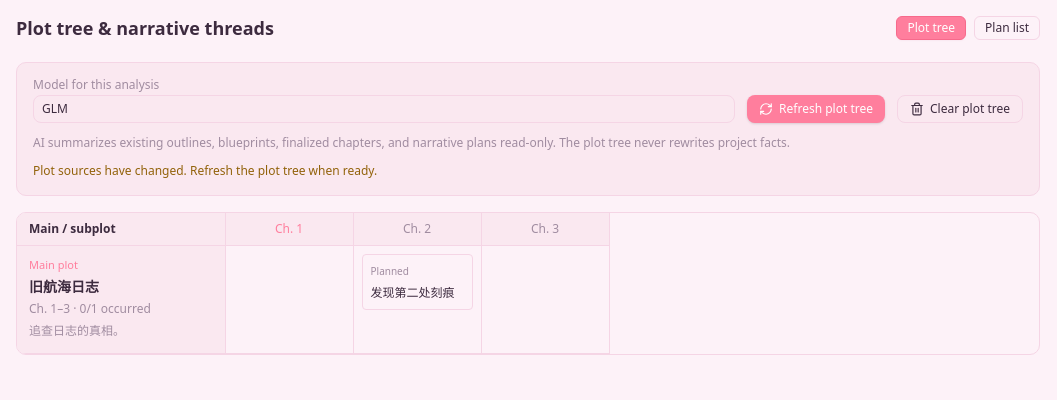
Test: NarrativeThreadEditor › explains the complete source limit in en-US without replacing the snapshot
This screenshot has width=1057, height=400.
Click the button "Refresh plot tree".
click(816, 109)  # box [747, 95, 885, 123]
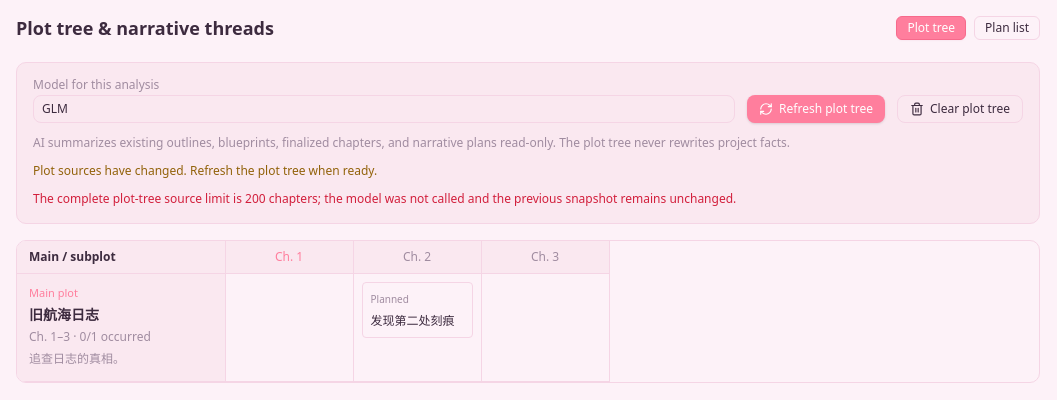
Expected: the text "旧航海日志" is shown, [29, 305, 99, 324]
Now the text "The complete plot-tree source limit is 200 chapters; the model was not called and the previous snapshot remains unchanged." is shown, box [33, 190, 736, 207]
